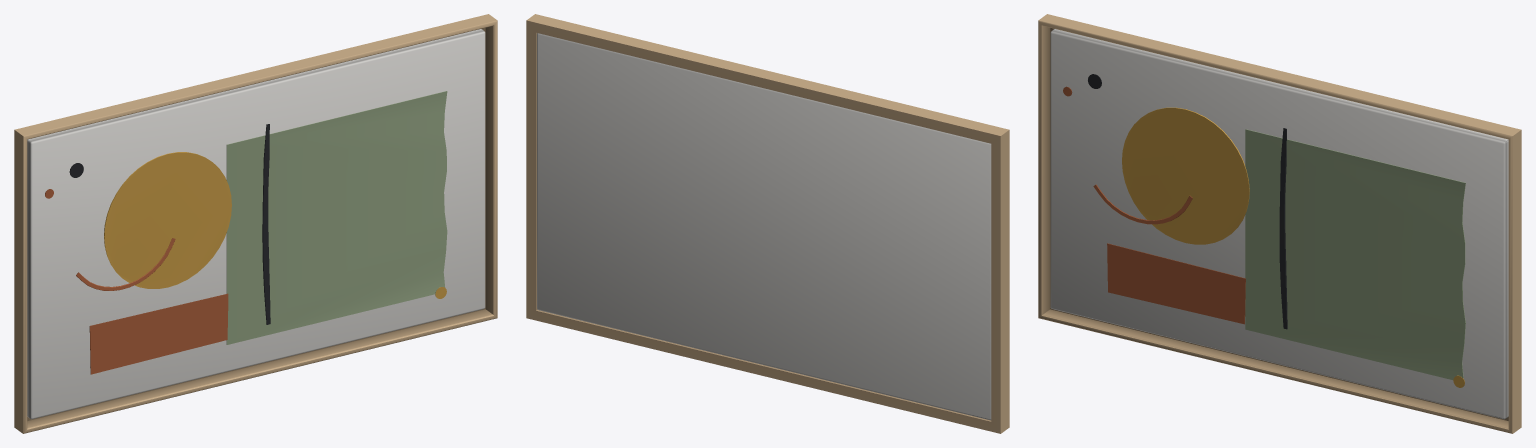
The model's file is canvasAbstract.glb.
3 views of the same model, side by side, from view 1: azimuth 30°, elevation 25°; view 2: azimuth 150°, elevation 25°; view 3: azimuth 330°, elevation 25° (orthographic).
Parts seen in each view (by area): view 1: canvasAbstract; view 2: canvasAbstract; view 3: canvasAbstract.
Part boxes in pixels (x1,y1,x2,y2): canvasAbstract: [14, 14, 497, 433]; canvasAbstract: [526, 14, 1009, 433]; canvasAbstract: [1038, 14, 1521, 433].
Bounding box in the file's own units: 1.5 × 0.9 × 0.05.
